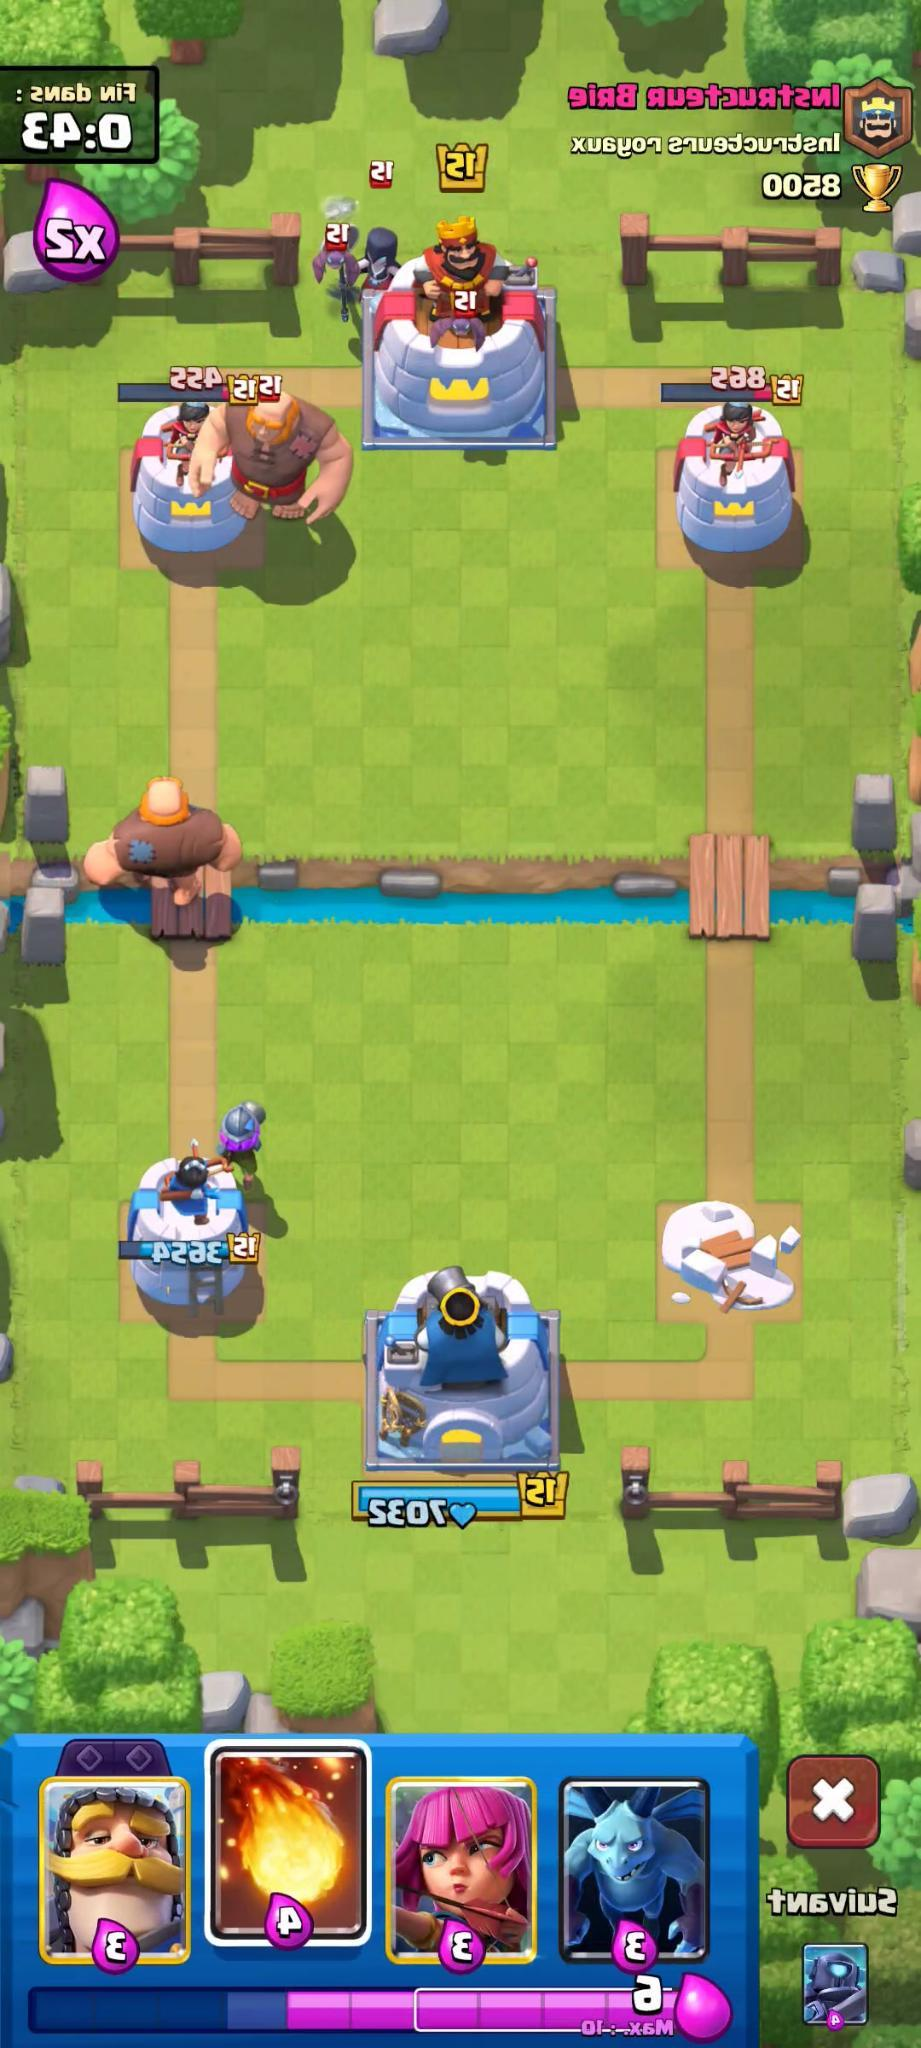enemy_bats: (310, 219, 366, 292)
enemy_giant: (209, 373, 360, 537)
enemy_night_witch: (309, 165, 404, 318)
player_giant: (75, 767, 247, 906)
player_musketeer: (210, 1086, 273, 1172)
